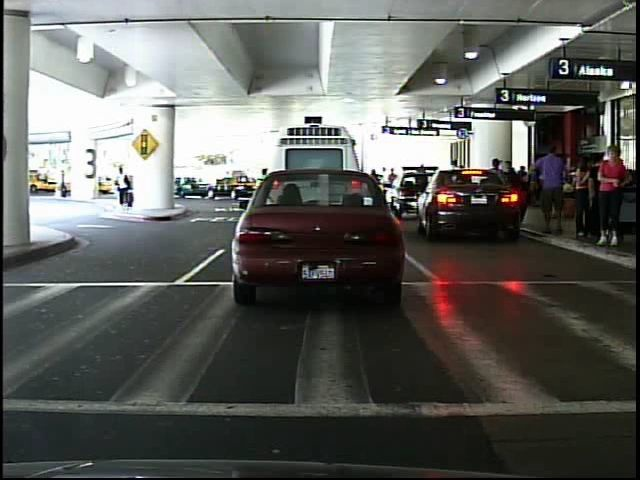person: (596, 142, 630, 252), (108, 158, 140, 212), (58, 164, 73, 202)
